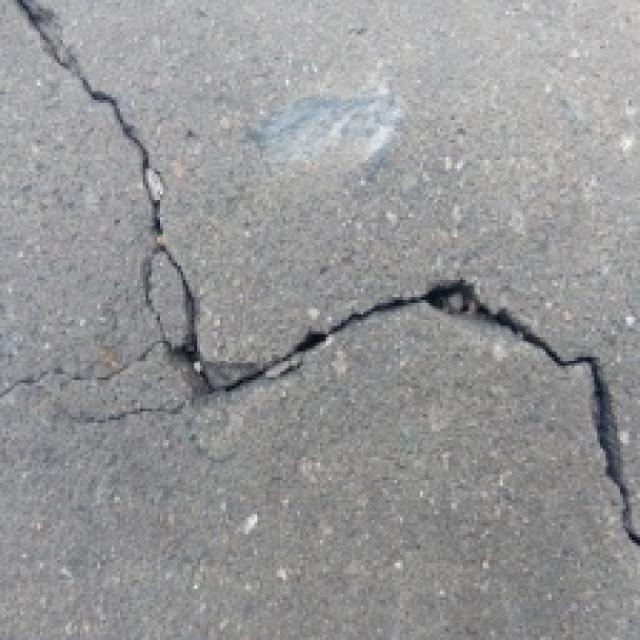SurfaceCrack: (246, 254, 640, 554)
